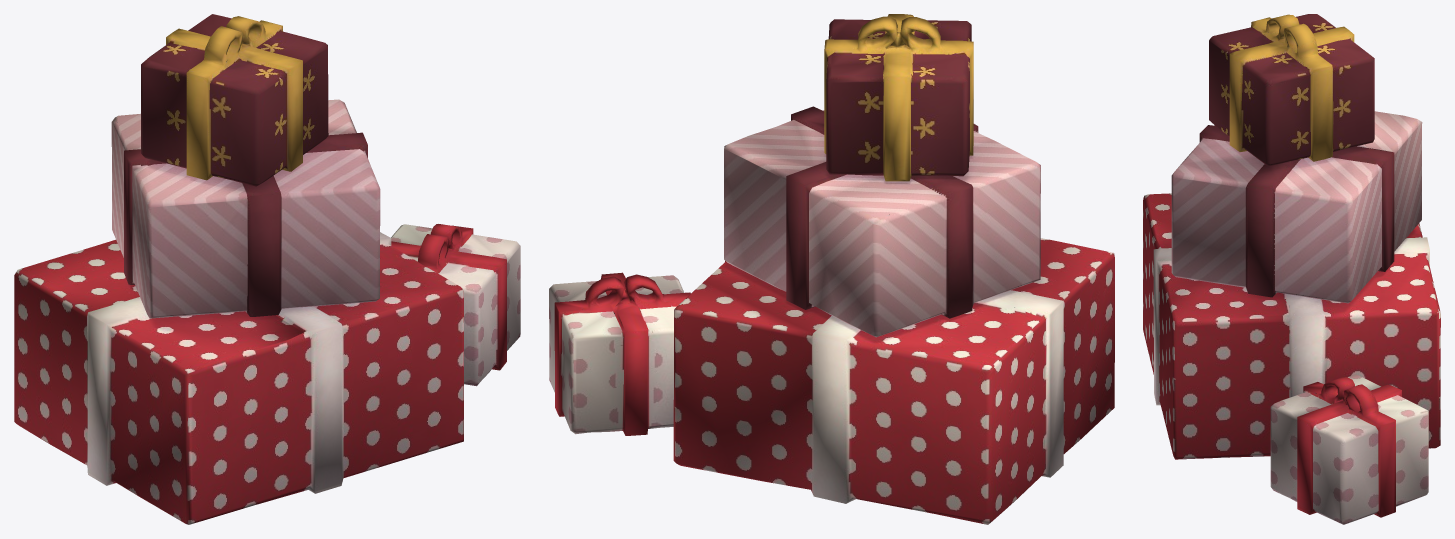
File: gift_stack.glb
3 views of the same model, side by side, from view 1: azimuth 30°, elevation 25°; view 2: azimuth 150°, elevation 25°; view 3: azimuth 270°, elevation 25° (orthographic). The views are drawn at different scales.
Parts seen in each view (by area): view 1: Box1, Box2, Box3, Box4; view 2: Box1, Box2, Box3, Box4; view 3: Box1, Box2, Box3, Box4.
Part boxes in pixels (x1,y1,x2,y2): Box1: (14, 232, 463, 524); Box2: (111, 99, 380, 318); Box3: (141, 14, 328, 186); Box4: (391, 224, 520, 386); Box1: (673, 238, 1114, 524); Box2: (724, 106, 1040, 337); Box3: (824, 14, 973, 181); Box4: (549, 272, 690, 435); Box1: (1143, 193, 1440, 459); Box2: (1171, 111, 1422, 303); Box3: (1209, 14, 1374, 166); Box4: (1270, 374, 1428, 524).
Bounding box in the file's own units: 1.01 × 0.8479 × 0.6189.
Materials: 1 (1 with a texture image).
